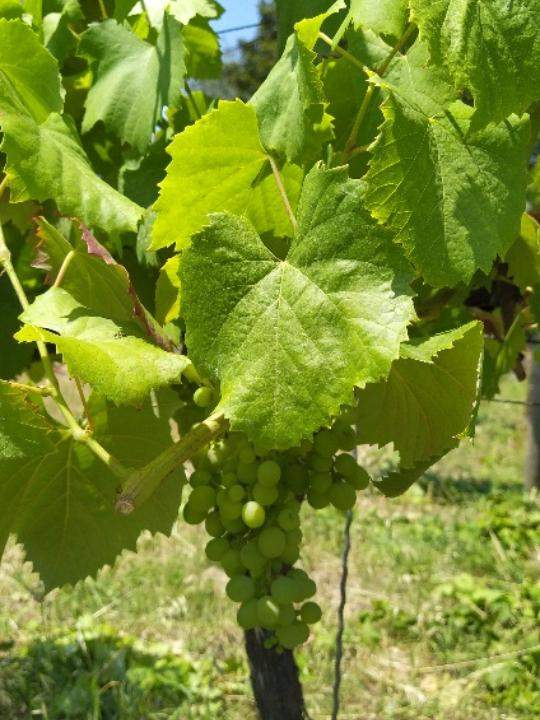grape: (181, 380, 376, 664)
